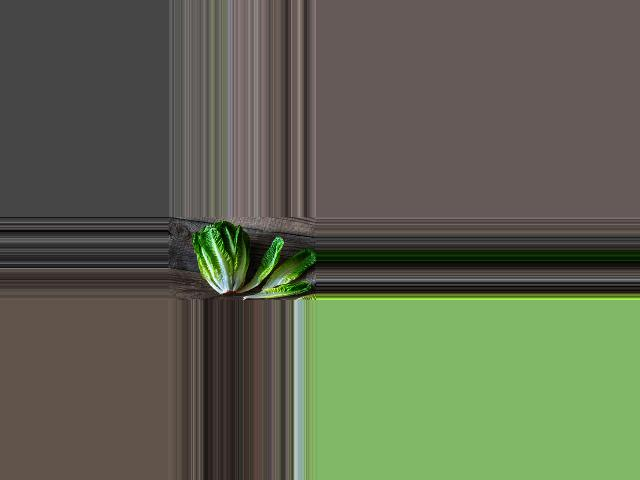lettuce: (190, 222, 253, 292)
